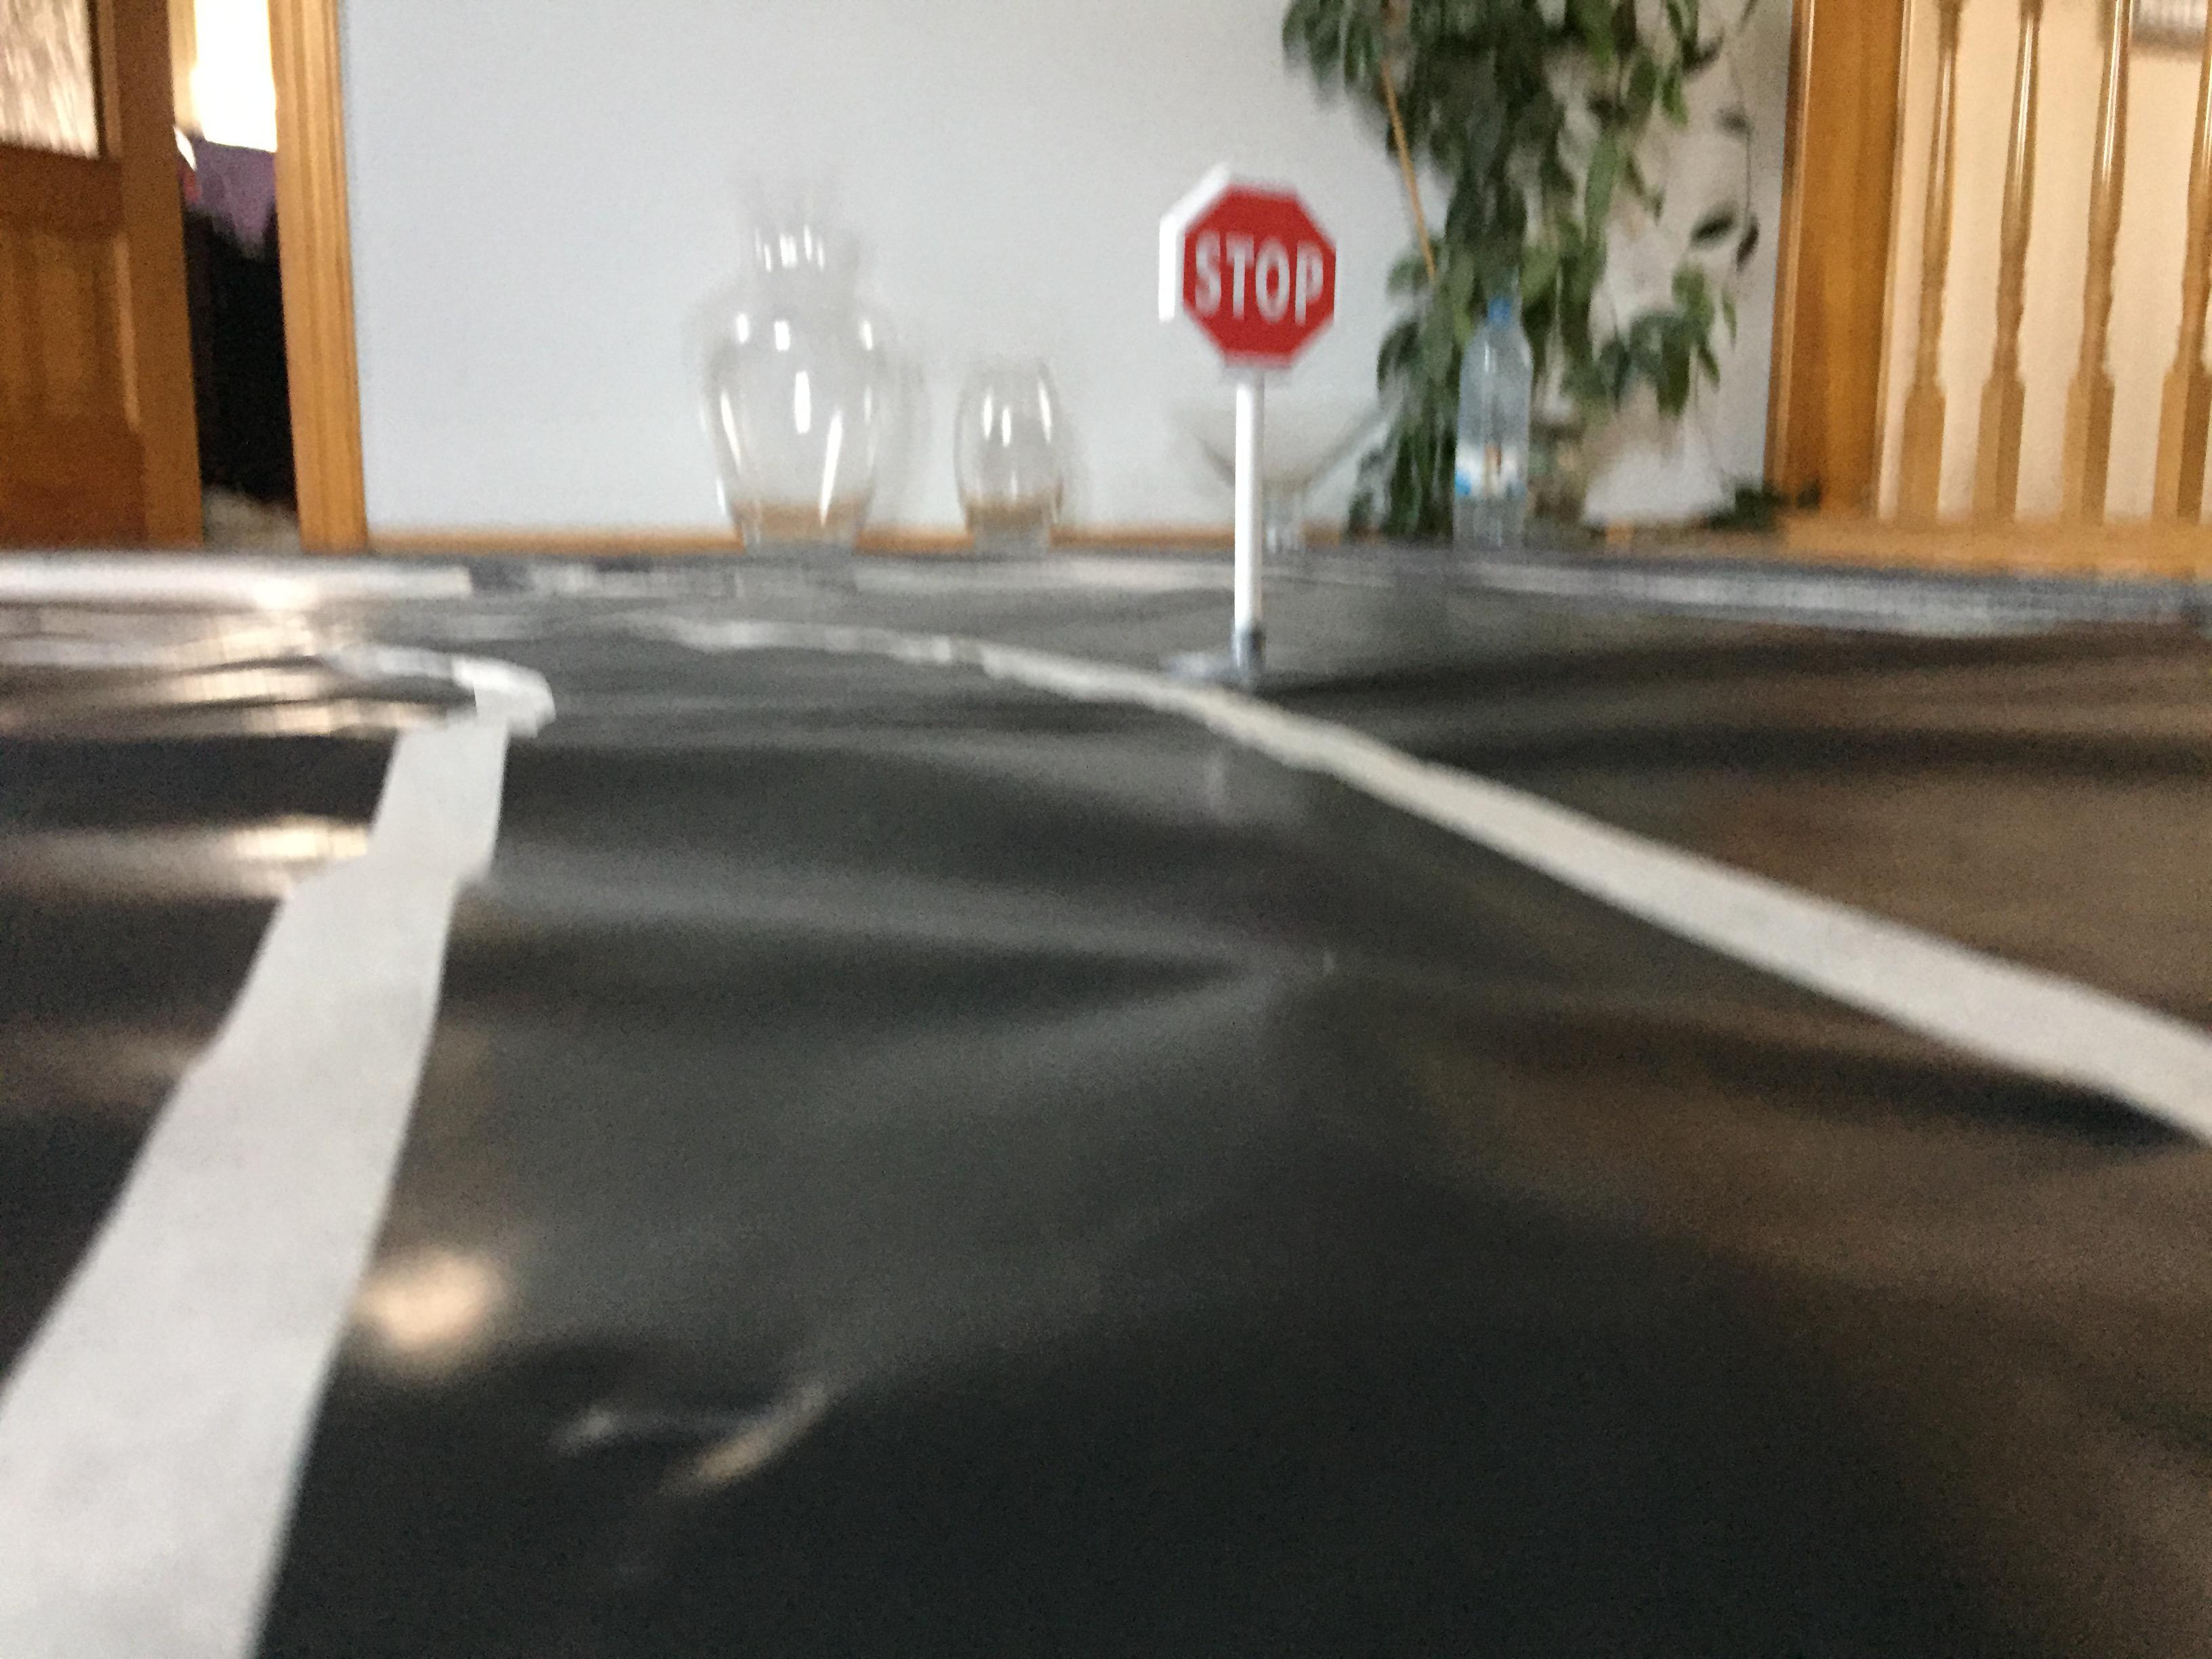stop: (1141, 162, 1355, 387)
